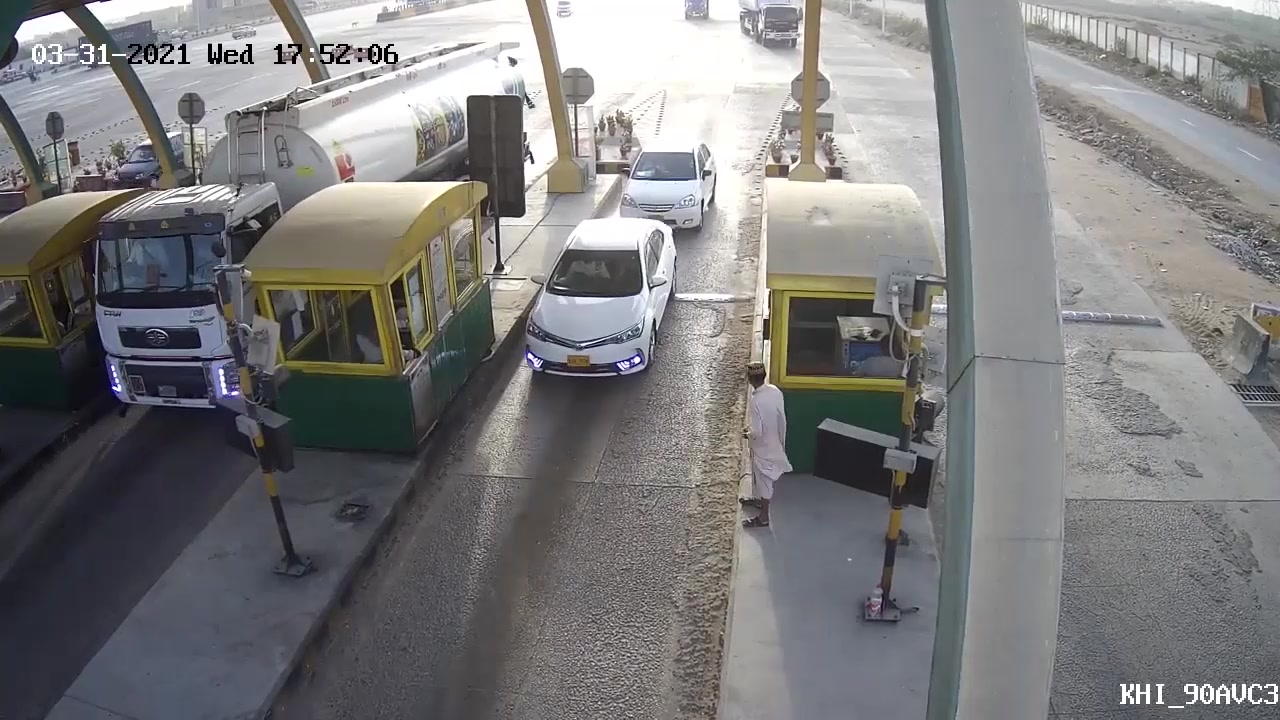F1: (518, 218, 685, 405), (615, 139, 721, 230)
